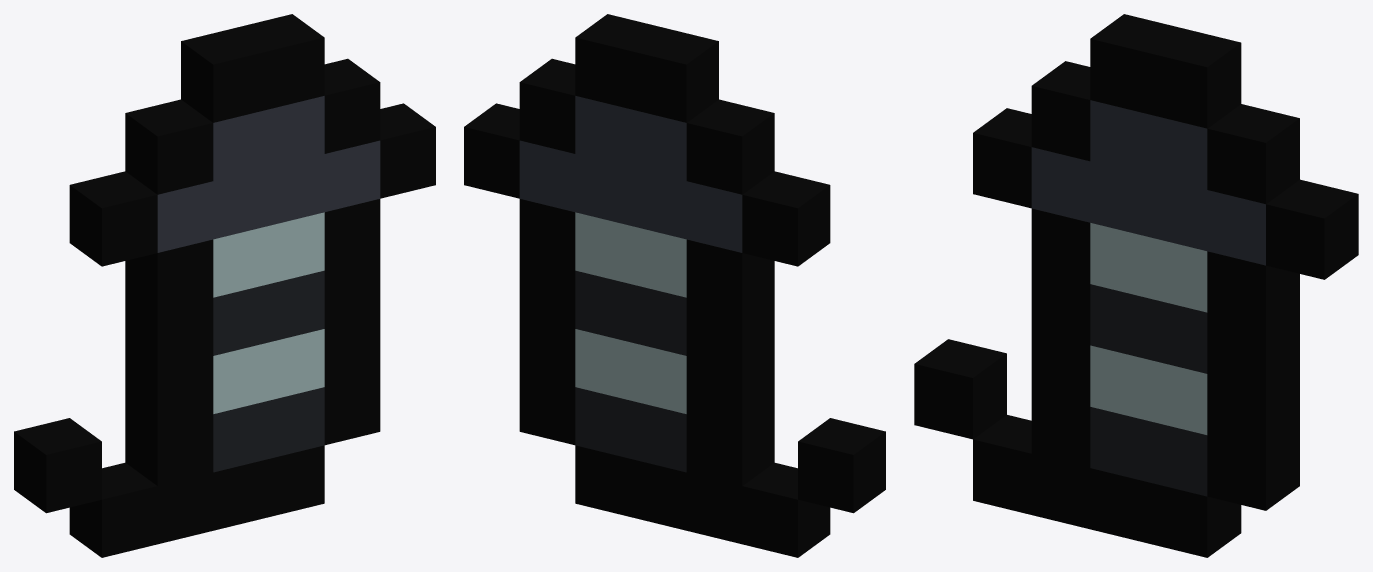
File: Black Firecracker.glb
3 views of the same model, side by side, from view 1: azimuth 30°, elevation 25°; view 2: azimuth 150°, elevation 25°; view 3: azimuth 330°, elevation 25° (orthographic). The views are drawn at different scales.
Visible parts, largest first — view 1: generated(Clone); view 2: generated(Clone); view 3: generated(Clone).
Boxes of the visible parts, x1,y1,x2,y2 form: generated(Clone): (14, 14, 435, 557); generated(Clone): (464, 14, 885, 557); generated(Clone): (914, 14, 1358, 557).
Size of the model in its own units: 7 by 8 by 1.
1 material, 1 textured.
